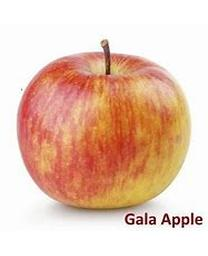apple: (15, 39, 191, 209)
